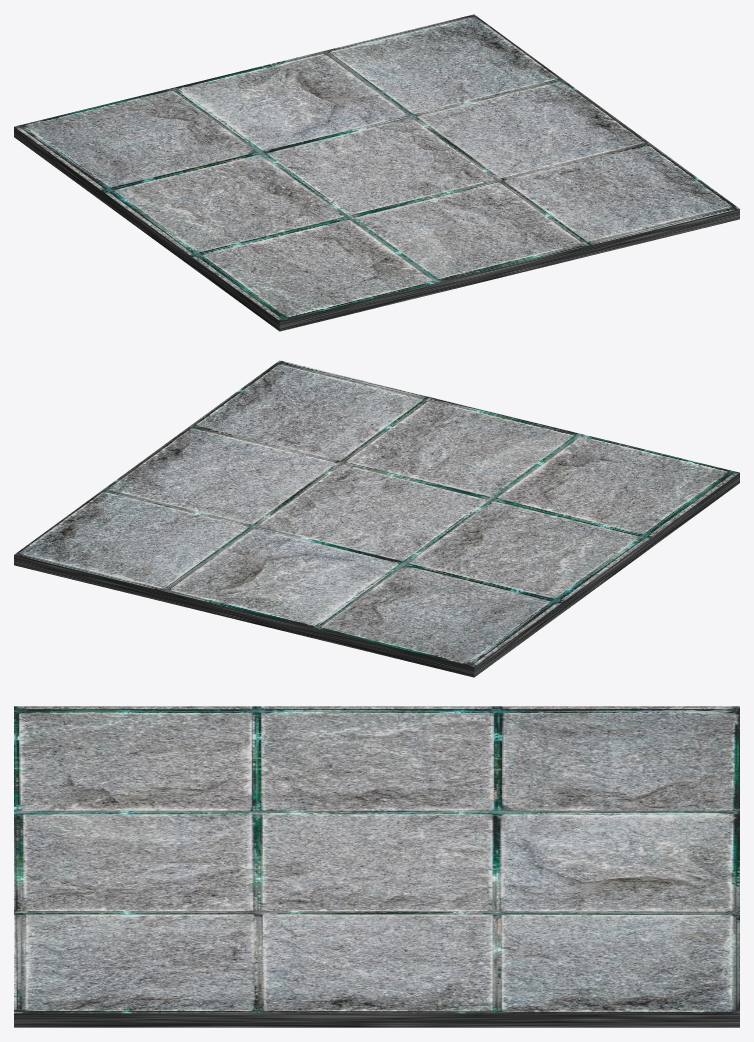
File: stonetile.glb
The picture shows the model from 3 angles, top to bottom: view 1: azimuth 30°, elevation 25°; view 2: azimuth 150°, elevation 25°; view 3: azimuth 270°, elevation 25°; orthographic projection. The views are drawn at different scales.
Parts seen in each view (by area): view 1: Cube; view 2: Cube; view 3: Cube.
Part boxes in pixels (x1,y1,x2,y2): Cube: (14,14,739,331); Cube: (14,360,739,677); Cube: (14,706,739,1027).
Bounding box in the file's own units: 2 × 0.0434 × 2.
Materials: 1 (1 with a texture image).
